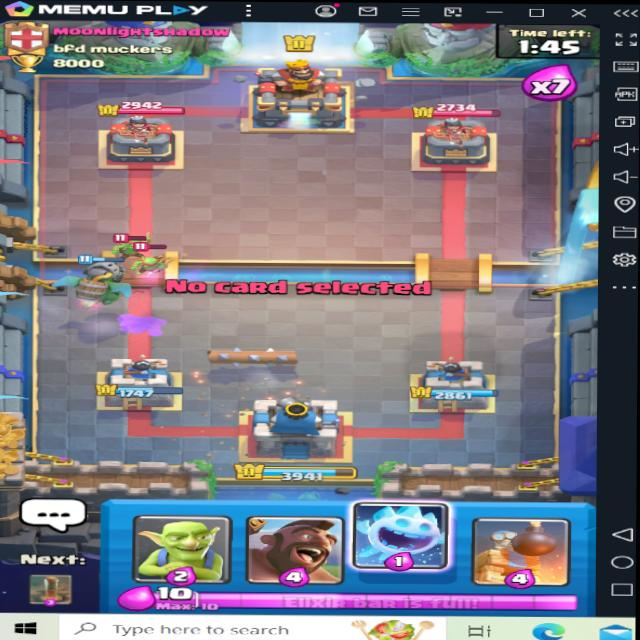spear-goblin: (132, 251, 171, 276), (113, 242, 153, 265)
